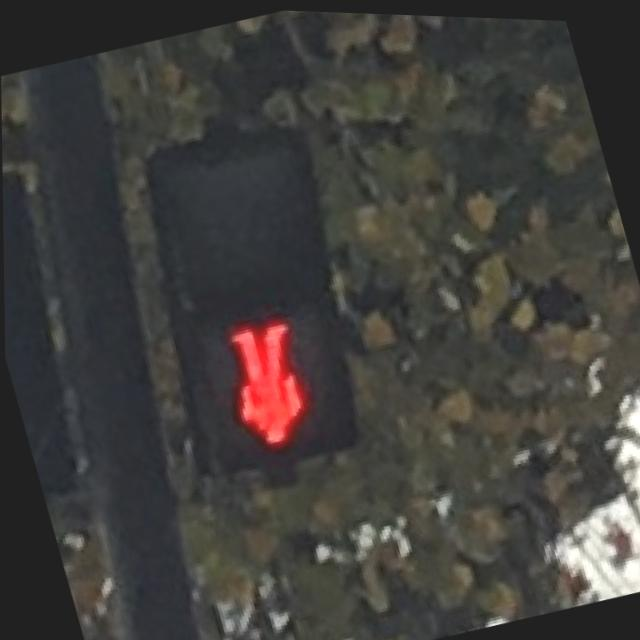red_light: (175, 297, 351, 476)
